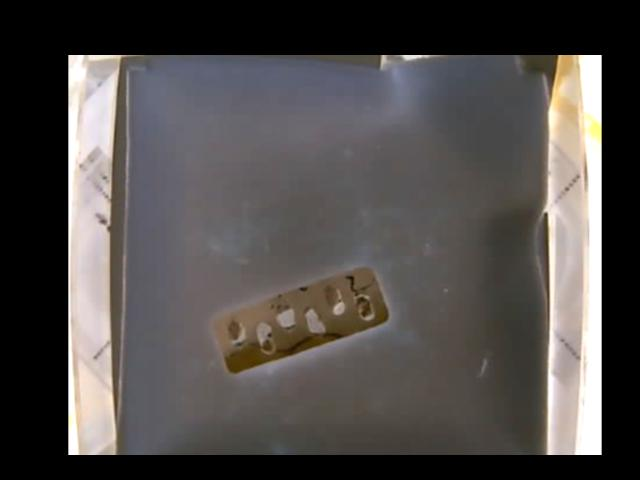Medicine: (213, 266, 389, 374)
